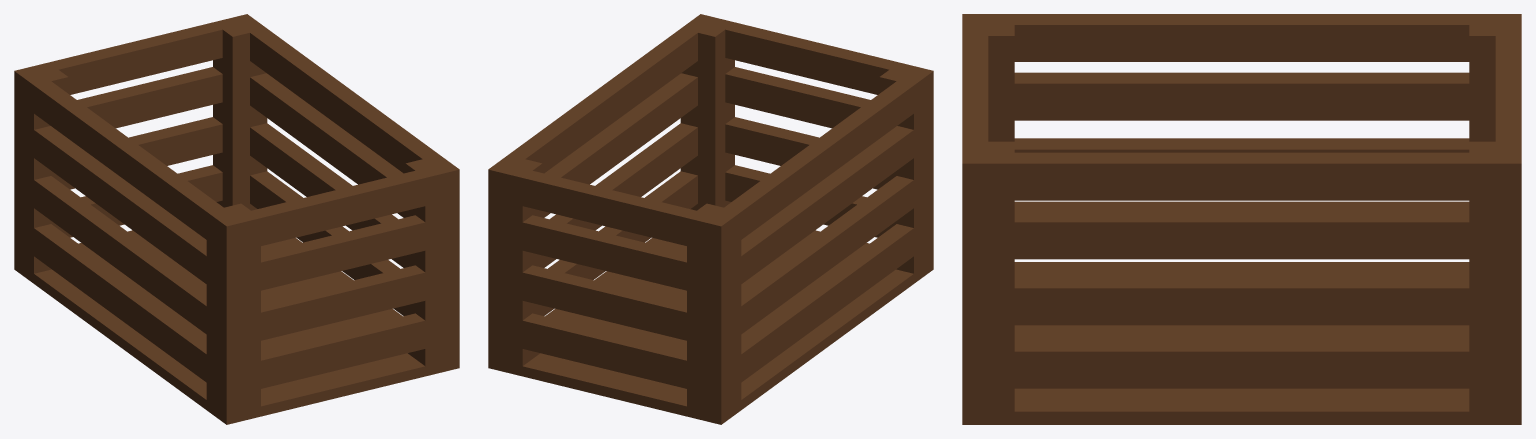
The model's file is Chest Var 2.fbx.
The picture shows the model from 3 angles, left to right: view 1: azimuth 30°, elevation 25°; view 2: azimuth 150°, elevation 25°; view 3: azimuth 270°, elevation 25°; orthographic projection. The views are drawn at different scales.
Parts seen in each view (by area): view 1: Chest Var 2; view 2: Chest Var 2; view 3: Chest Var 2.
Boxes of the visible parts, x1,y1,x2,y2 form: Chest Var 2: (14, 14, 459, 424); Chest Var 2: (488, 14, 933, 424); Chest Var 2: (962, 14, 1521, 424).
Bounding box in the file's own units: 48.12 × 39.16 × 75.97.
